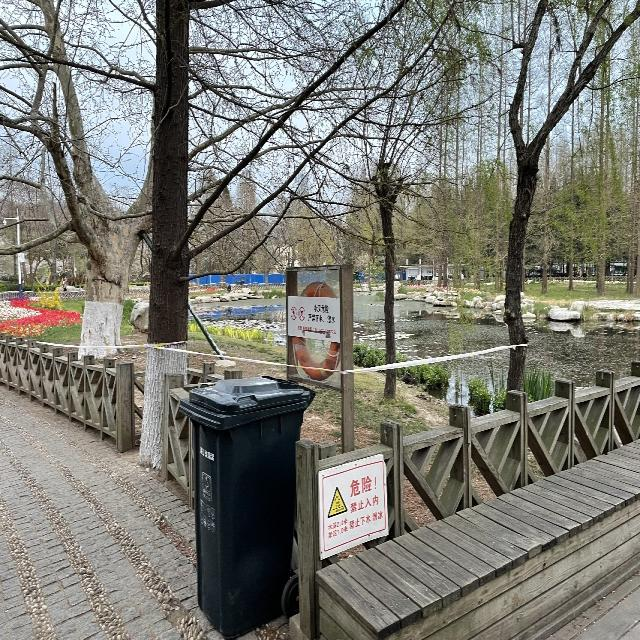garbage_bin: (176, 374, 314, 636)
